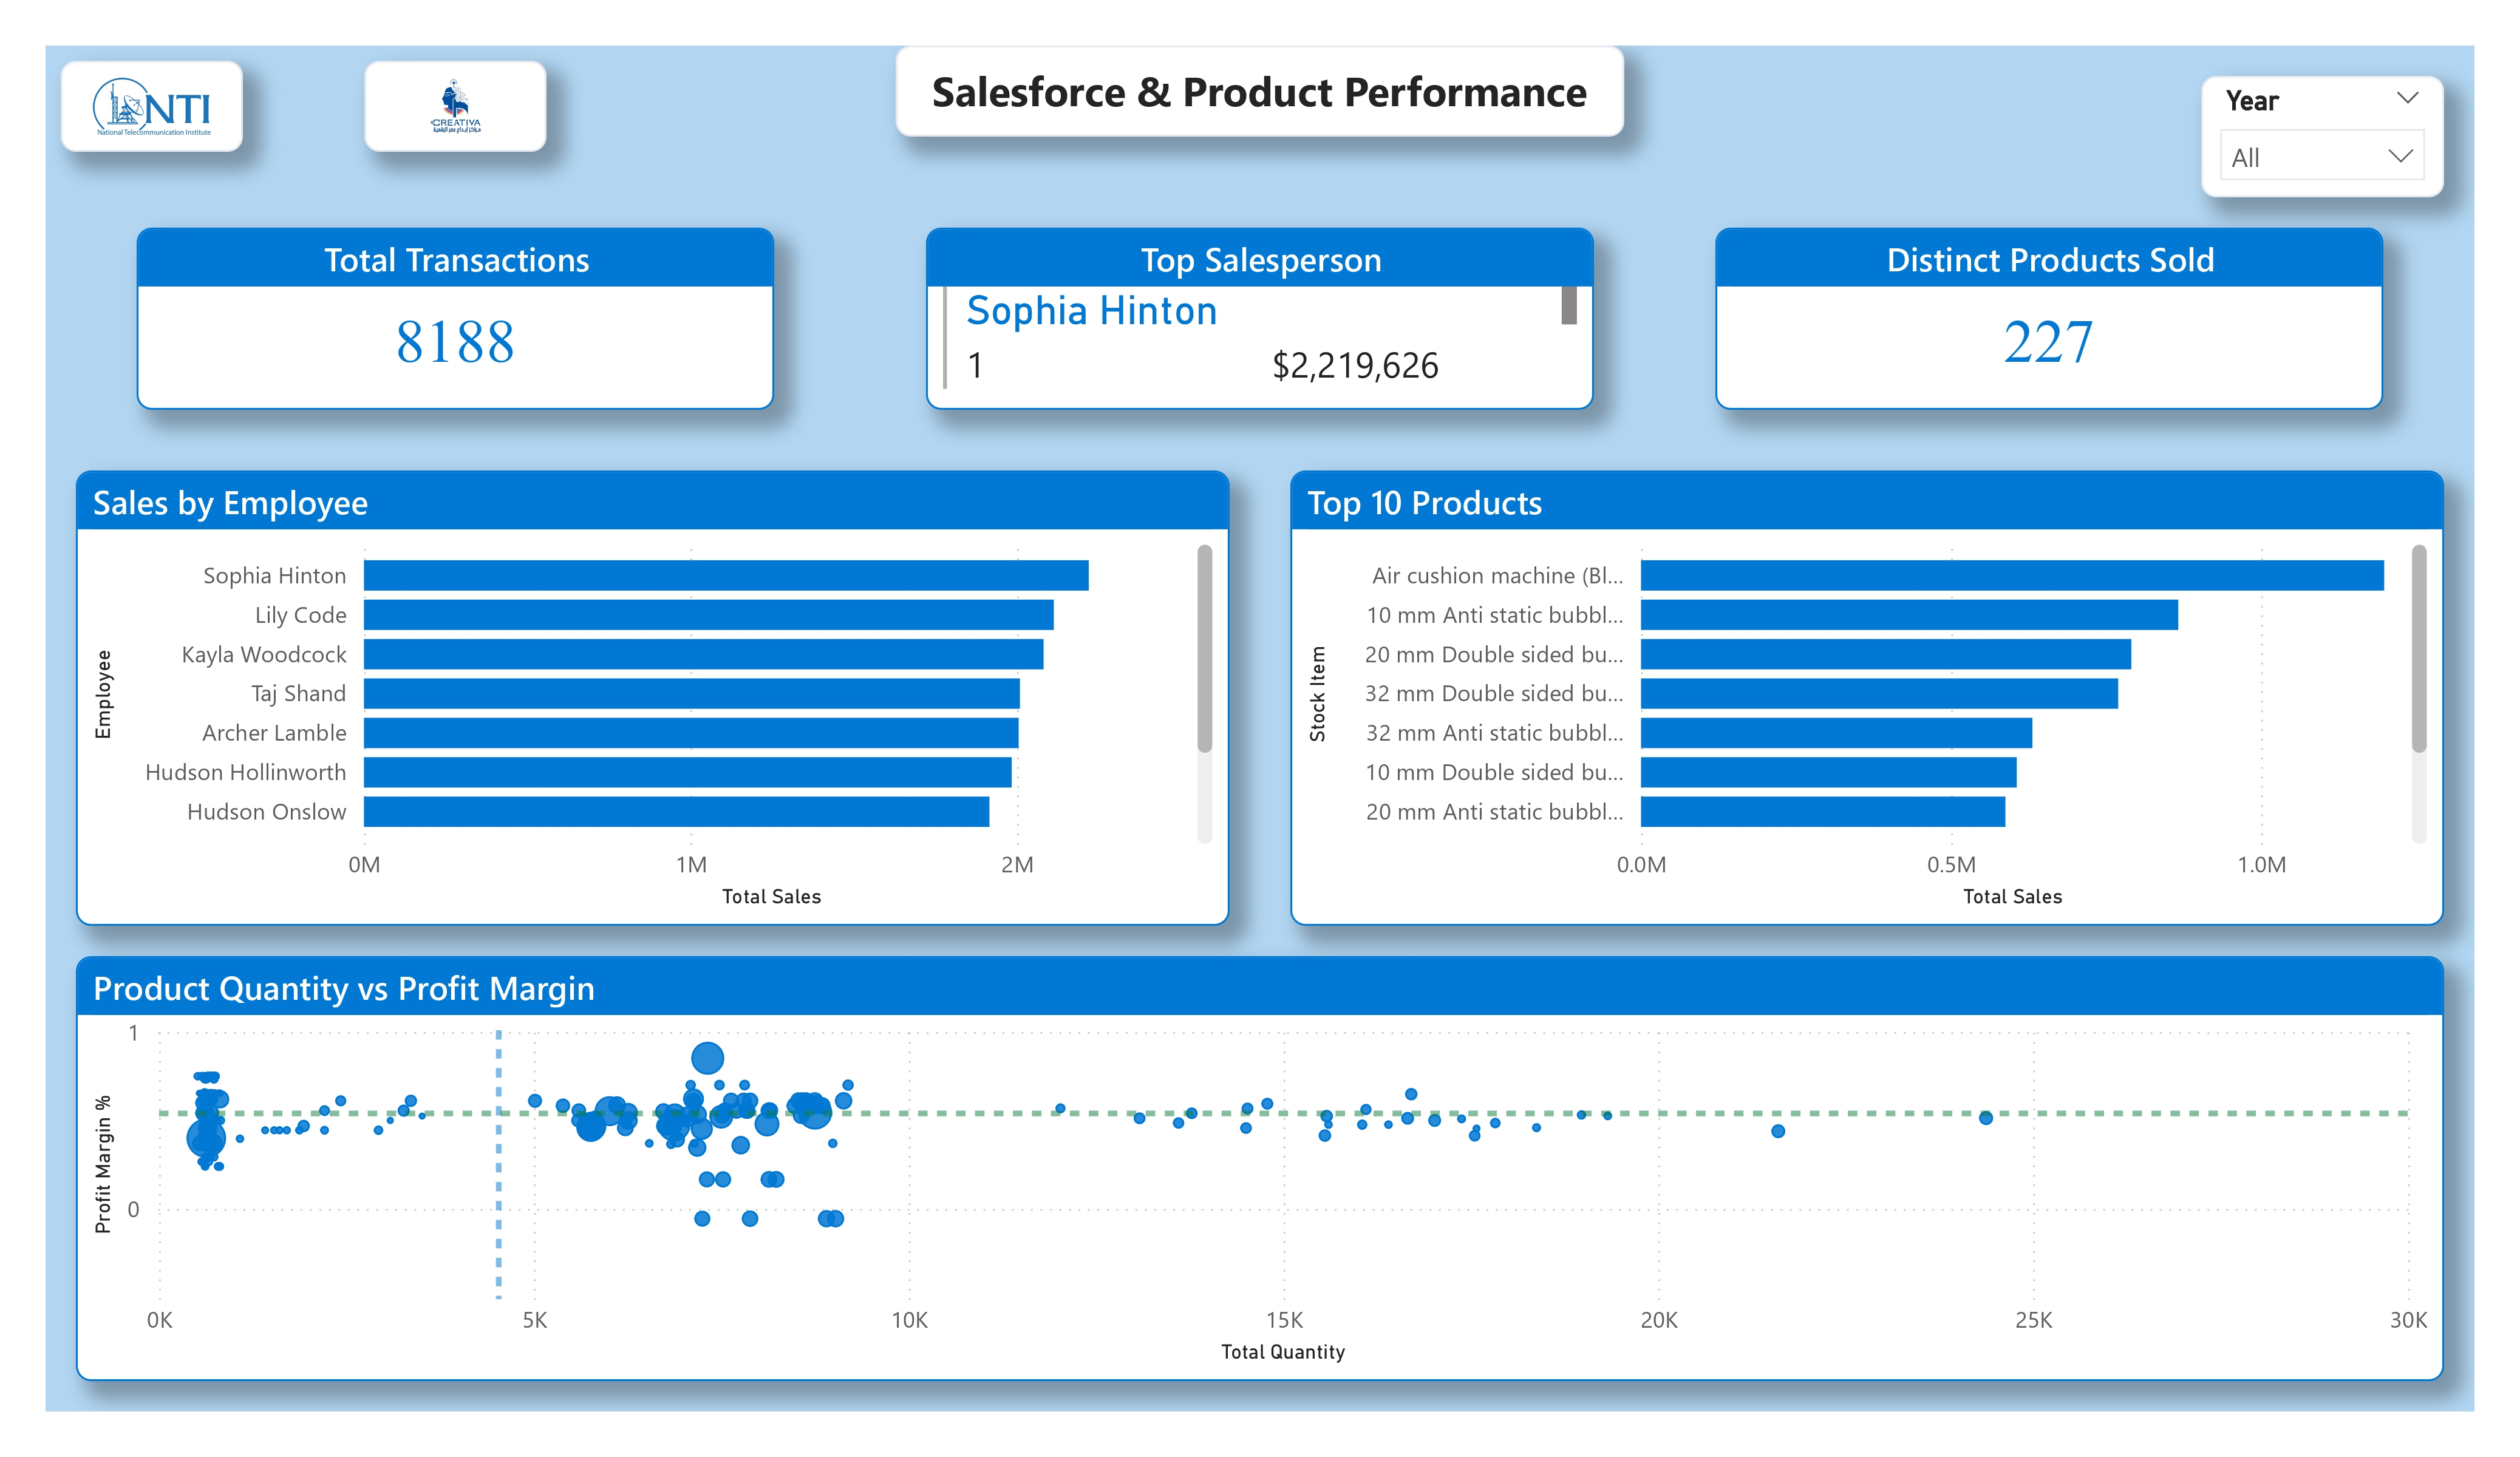

This screenshot's page, from the dashboard's own definition file:
{"tool":"powerbi","page":{"name":"Salesforce & Product Performance","canvas":[1280,720],"ordinal":2},"visuals":[{"type":"textbox","box":[448,0,384,48],"z":0},{"type":"image","box":[8,8,96,48],"z":1000},{"type":"image","box":[168,8,96,48],"z":2000},{"type":"slicer","fields":{"Values":["DimDate.Calendar Year","DimDate.Fiscal Year Label"]},"box":[1136,16,128,64],"z":3000},{"type":"card","title":"Total Transactions","fields":{"Values":["Core Sales & Profit.Total Transactions"]},"box":[48,96,336,96],"z":4000},{"type":"multiRowCard","title":"Top Salesperson","fields":{"Values":["DimEmployee.Employee","Ranking.Employee Sales Rank","Core Sales & Profit.Total Sales"]},"box":[464,96,352,96],"z":5000},{"type":"card","title":"Distinct Products Sold","fields":{"Values":["Customer & Product Analysis.Distinct Products Sold"]},"box":[880,96,352,96],"z":6000},{"type":"clusteredBarChart","title":"Sales by Employee","fields":{"Category":["DimEmployee.Employee"],"Y":["Core Sales & Profit.Total Sales"]},"box":[16,224,608,240],"z":7000},{"type":"clusteredBarChart","title":"Top 10 Products","fields":{"Y":["Core Sales & Profit.Total Sales"],"Category":["DimStockItem.Stock Item"]},"box":[656,224,608,240],"z":8000},{"type":"scatterChart","title":"Product Quantity vs Profit Margin","fields":{"X":["Core Sales & Profit.Total Quantity"],"Y":["Core Sales & Profit.Profit Margin %"],"Size":["Core Sales & Profit.Total Sales"],"Category":["DimStockItem.Stock Item"]},"box":[16,480,1248,224],"z":9000}]}

Visuals, with their boxes on the page's 1280x720 design canvas (x1, y1, x2, y2). These are canvas units, not pixel positions in the 2520x1457 screenshot, which may show the page scaled, cropped or inside an application window:
textbox: (448, 0, 832, 48)
image: (8, 8, 104, 56)
image: (168, 8, 264, 56)
slicer - DimDate.Calendar Year x DimDate.Fiscal Year Label: (1136, 16, 1264, 80)
"Total Transactions" card: (48, 96, 384, 192)
"Top Salesperson" multiRowCard: (464, 96, 816, 192)
"Distinct Products Sold" card: (880, 96, 1232, 192)
"Sales by Employee" clusteredBarChart: (16, 224, 624, 464)
"Top 10 Products" clusteredBarChart: (656, 224, 1264, 464)
"Product Quantity vs Profit Margin" scatterChart: (16, 480, 1264, 704)
